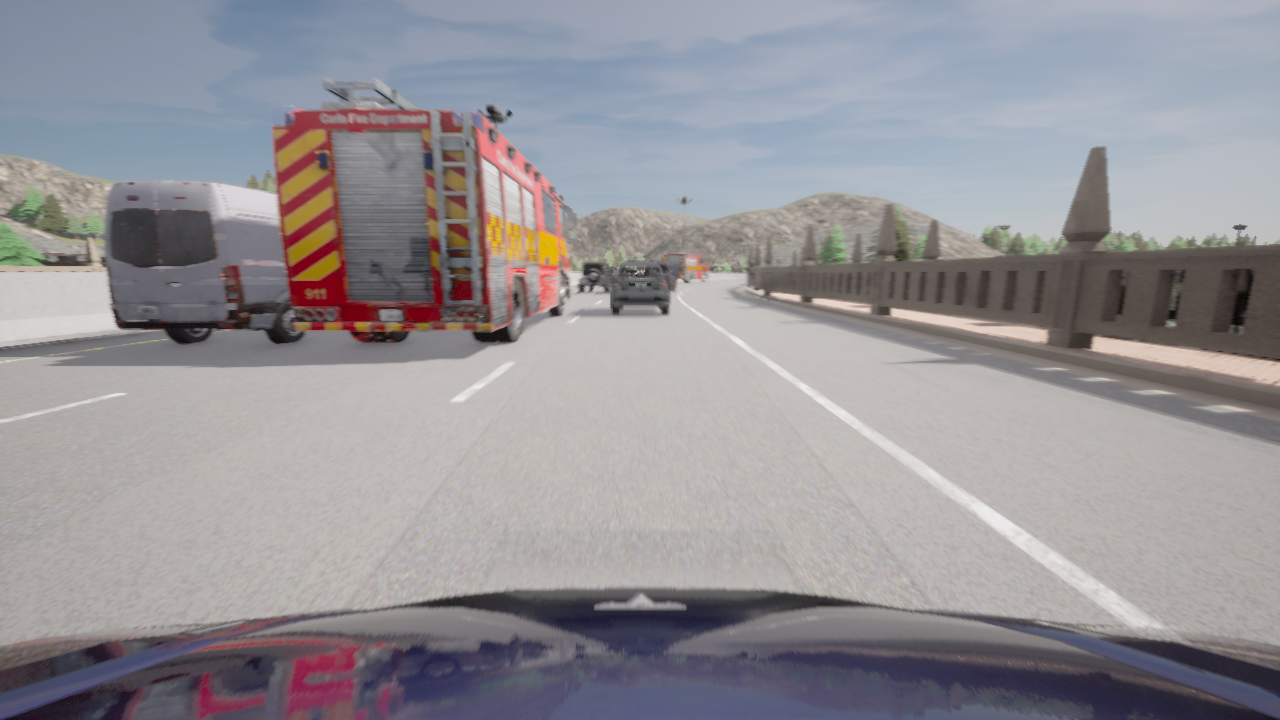cyclist: (0, 588, 1279, 719), (271, 78, 576, 342), (101, 181, 304, 343), (611, 262, 668, 314), (662, 249, 709, 283), (578, 262, 614, 293), (657, 262, 674, 291), (609, 268, 616, 275)
